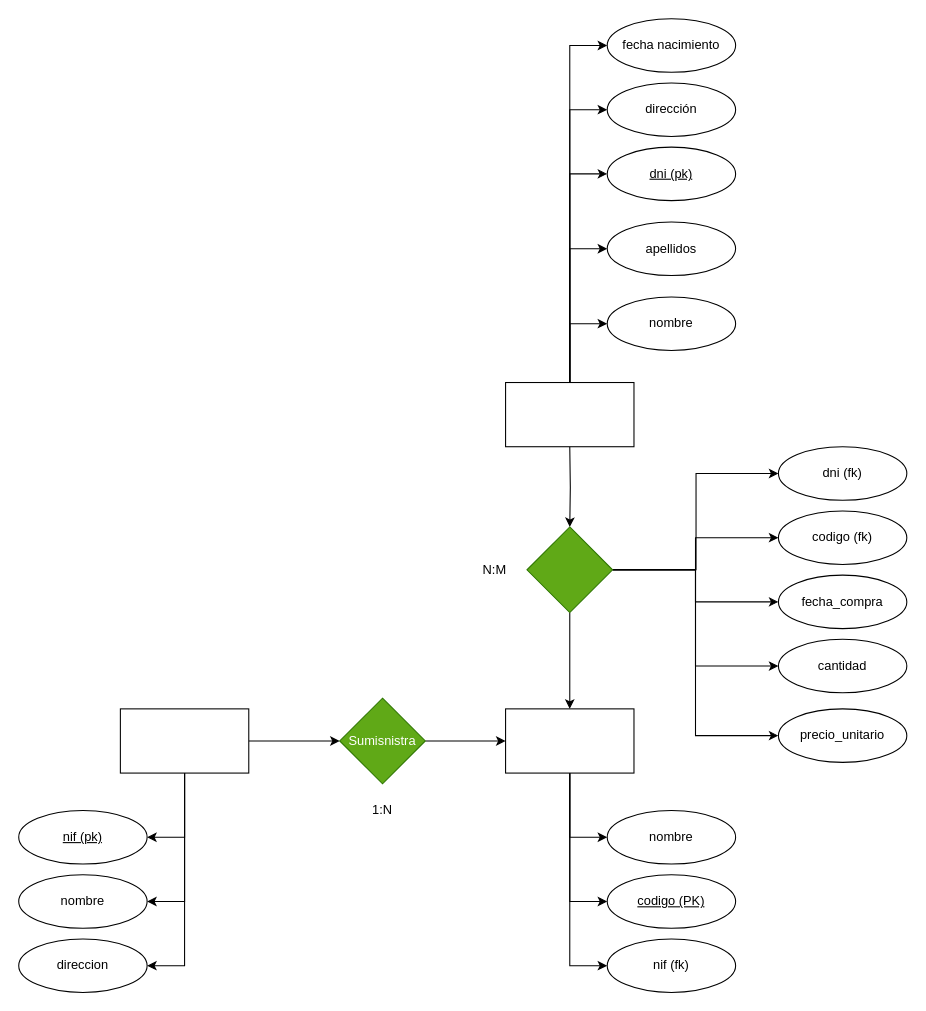
Some shapes in this 926 by 1011 pixel diagram are drawn without their labels. Here are the shapes that lost their labels. From the top down, the centre of each, then its label:
At pixel 569 414: "Cliente".
At pixel 569 569: "Compra".
At pixel 184 740: "Proveedor".
At pixel 569 740: "Producto".
